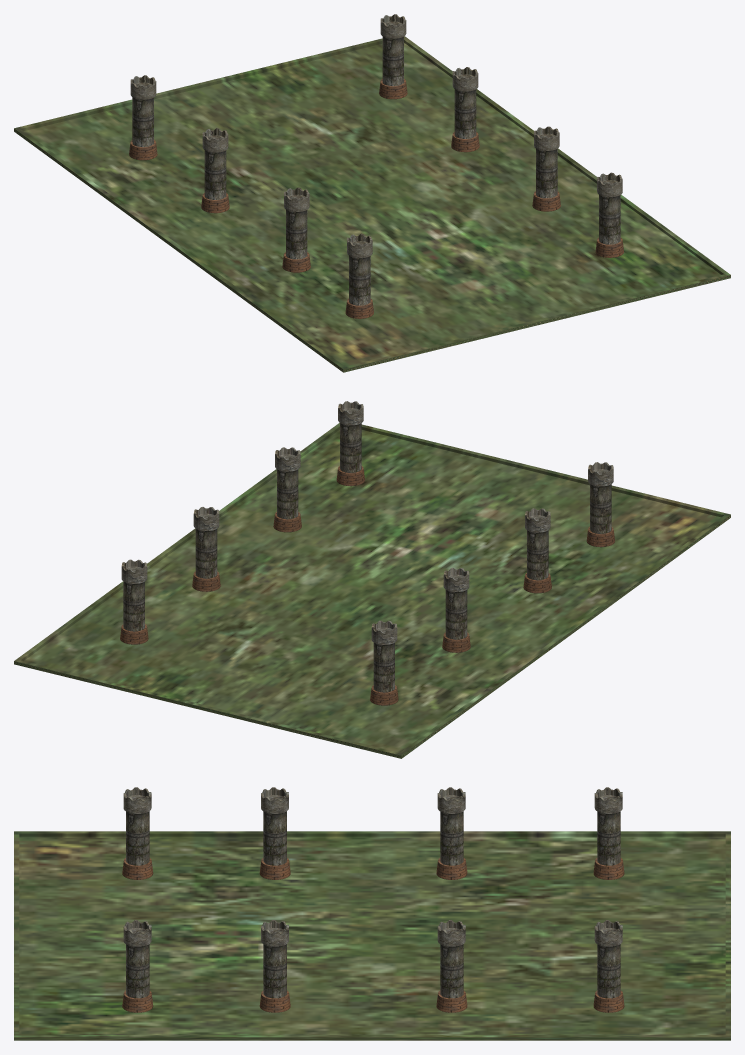
File: Palace.fbx
The picture shows the model from 3 angles, top to bottom: view 1: azimuth 30°, elevation 25°; view 2: azimuth 150°, elevation 25°; view 3: azimuth 270°, elevation 25°; orthographic projection. The views are drawn at different scales.
Parts seen in each view (by area): view 1: Ground, Pillar.002, Pillar.005, Pillar.004, Pillar.003, Pillar.001, Pillar.006, Pillar.007, Pillar; view 2: Ground, Pillar.002, Pillar.005, Pillar.003, Pillar.004, Pillar.006, Pillar.001, Pillar, Pillar.007; view 3: Ground, Pillar.003, Pillar, Pillar.007, Pillar.002, Pillar.005, Pillar.004, Pillar.001, Pillar.006.
Part boxes in pixels (x1,y1,x2,y2): Ground: [14, 36, 730, 372]; Pillar.002: [451, 67, 479, 152]; Pillar.005: [201, 128, 229, 213]; Pillar.004: [129, 75, 157, 160]; Pillar.003: [379, 14, 407, 99]; Pillar.001: [532, 126, 560, 211]; Pillar.006: [282, 187, 310, 272]; Pillar.007: [345, 233, 373, 318]; Pillar: [595, 172, 623, 257]; Ground: [14, 423, 730, 758]; Pillar.002: [192, 507, 220, 591]; Pillar.005: [442, 568, 470, 652]; Pillar.003: [120, 559, 148, 644]; Pillar.004: [370, 620, 398, 705]; Pillar.006: [523, 508, 551, 593]; Pillar.001: [273, 447, 301, 532]; Pillar: [336, 401, 364, 486]; Pillar.007: [586, 462, 614, 547]; Ground: [14, 831, 730, 1040]; Pillar.003: [593, 920, 624, 1012]; Pillar: [122, 920, 153, 1012]; Pillar.007: [122, 787, 153, 879]; Pillar.002: [436, 920, 467, 1012]; Pillar.005: [436, 787, 467, 879]; Pillar.004: [593, 787, 624, 879]; Pillar.001: [259, 920, 290, 1012]; Pillar.006: [259, 787, 290, 879].
Bounding box in the file's own units: 2480 × 454 × 3652.
Materials: 25 (25 with a texture image).
